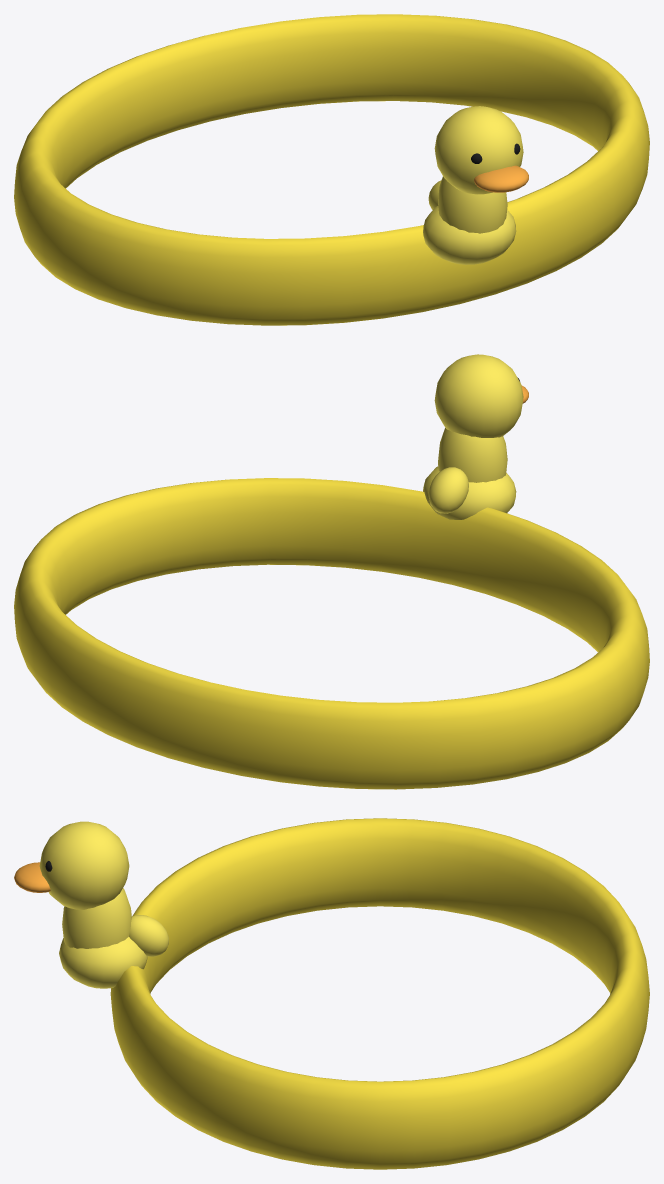
File: duckring1.fbx
The picture shows the model from 3 angles, top to bottom: view 1: azimuth 30°, elevation 25°; view 2: azimuth 150°, elevation 25°; view 3: azimuth 270°, elevation 25°; orthographic projection.
Visible parts, largest first — view 1: duckring1; view 2: duckring1; view 3: duckring1.
Boxes of the visible parts, x1,y1,x2,y2 form: duckring1: [14, 14, 649, 325]; duckring1: [14, 354, 649, 789]; duckring1: [14, 818, 649, 1169].
Bounding box in the file's own units: 1.04 × 0.365 × 0.9914.
